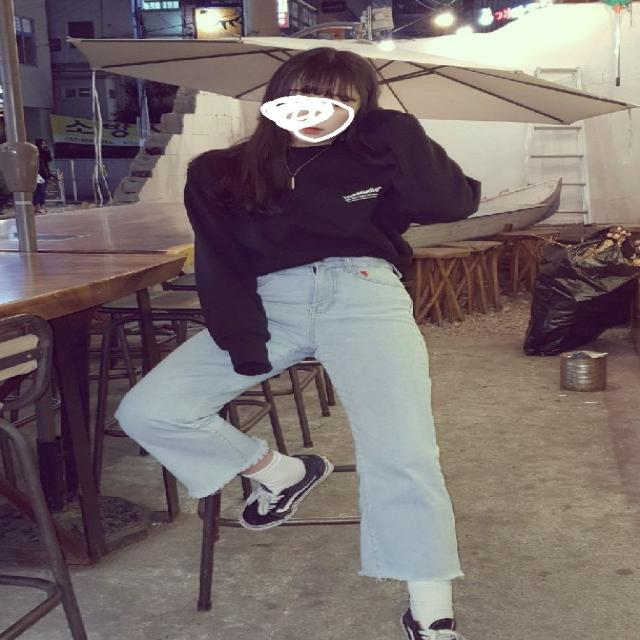denimpants: (112, 260, 460, 585)
mtm: (184, 110, 481, 378)
